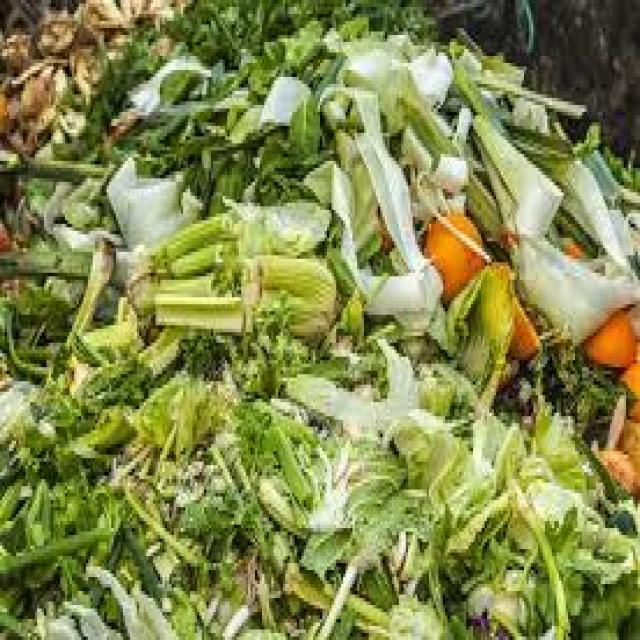food_waste: (8, 15, 620, 620)
